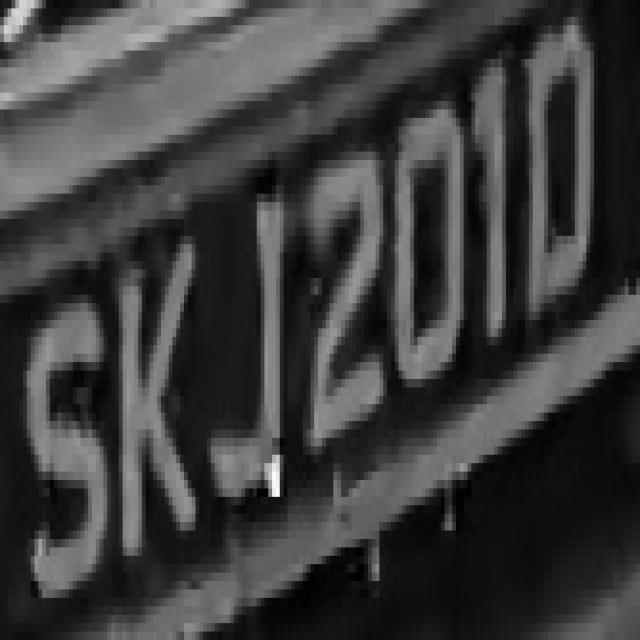0: (391, 59, 467, 404)
1: (479, 42, 525, 379)
2: (306, 126, 398, 472)
D: (521, 8, 602, 337)
J: (203, 160, 295, 522)
K: (107, 219, 211, 573)
S: (23, 286, 107, 615)
